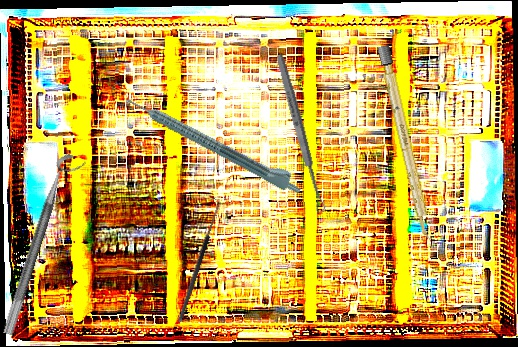Fixation Ring: (1, 151, 87, 341)
Handpiece: (123, 86, 307, 198)
Hook Surgical: (171, 197, 223, 323)
Scalpel Handle: (377, 44, 434, 242)
Surgical Spoon: (274, 53, 327, 214)
